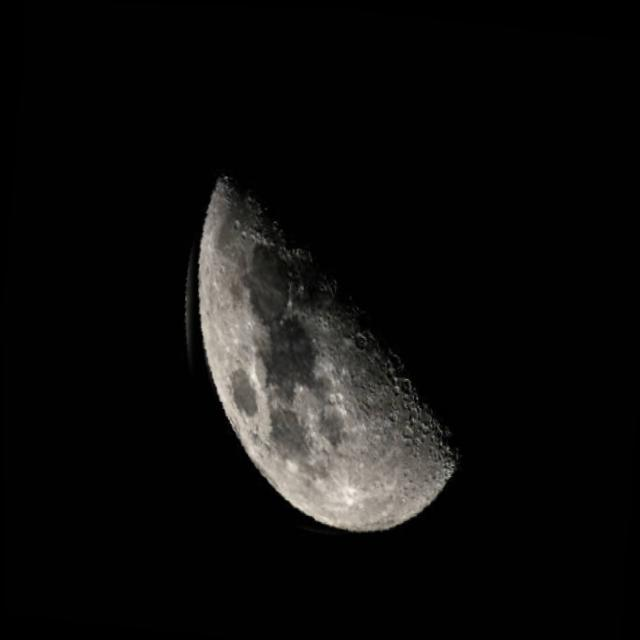moon: (151, 92, 544, 561)
